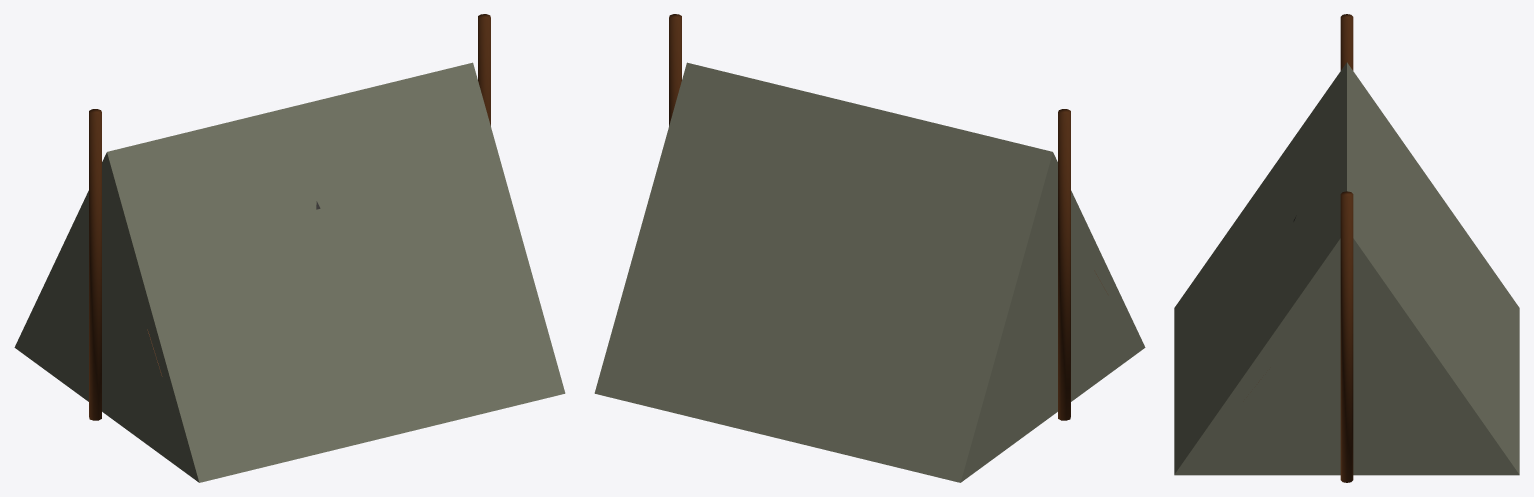
File: camp.glb
3 renders of one model, left to right at view 1: azimuth 30°, elevation 25°; view 2: azimuth 150°, elevation 25°; view 3: azimuth 270°, elevation 25°, orthographic. The views are drawn at different scales.
Visible parts, largest first — view 1: tent, pole2, pole; view 2: tent, pole2, pole; view 3: tent, pole, pole2.
Boxes of the visible parts, x1,y1,x2,y2 form: tent: (14,62,565,482); pole2: (89,109,101,420); pole: (478,14,490,125); tent: (594,62,1145,482); pole2: (1058,109,1070,420); pole: (669,14,681,125); tent: (1174,62,1519,475); pole: (1340,191,1353,482); pole2: (1340,14,1353,70).
Bounding box in the file's own units: 1.75 × 1.28 × 1.4.
